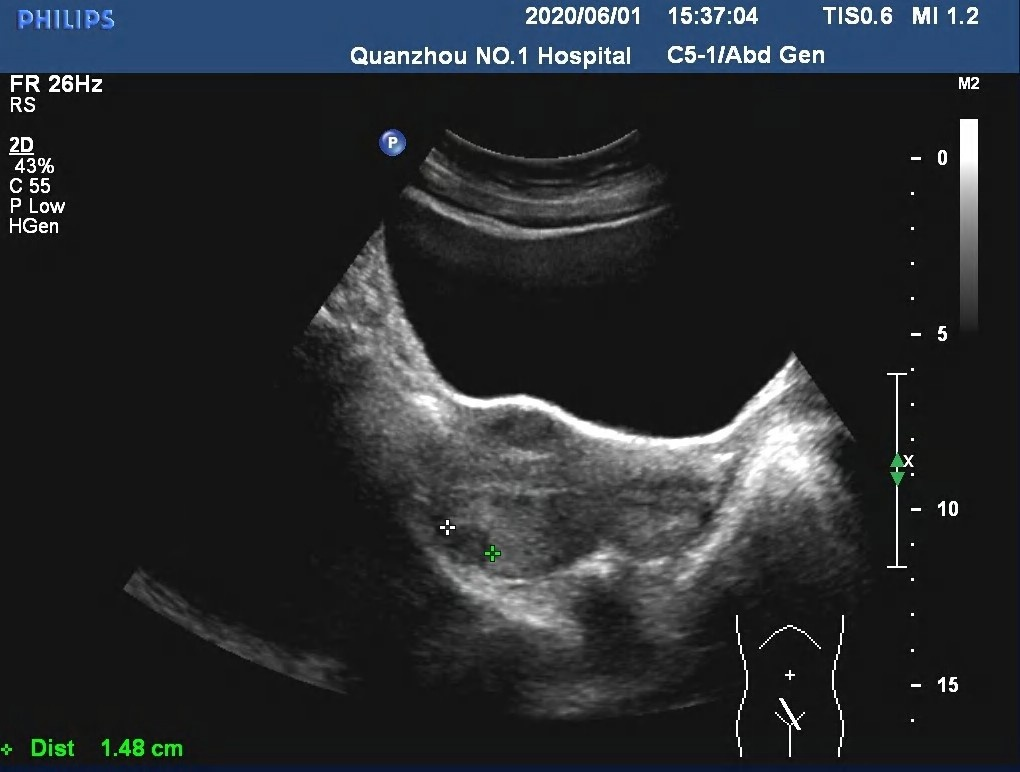肌瘤: (445, 523, 494, 571)
